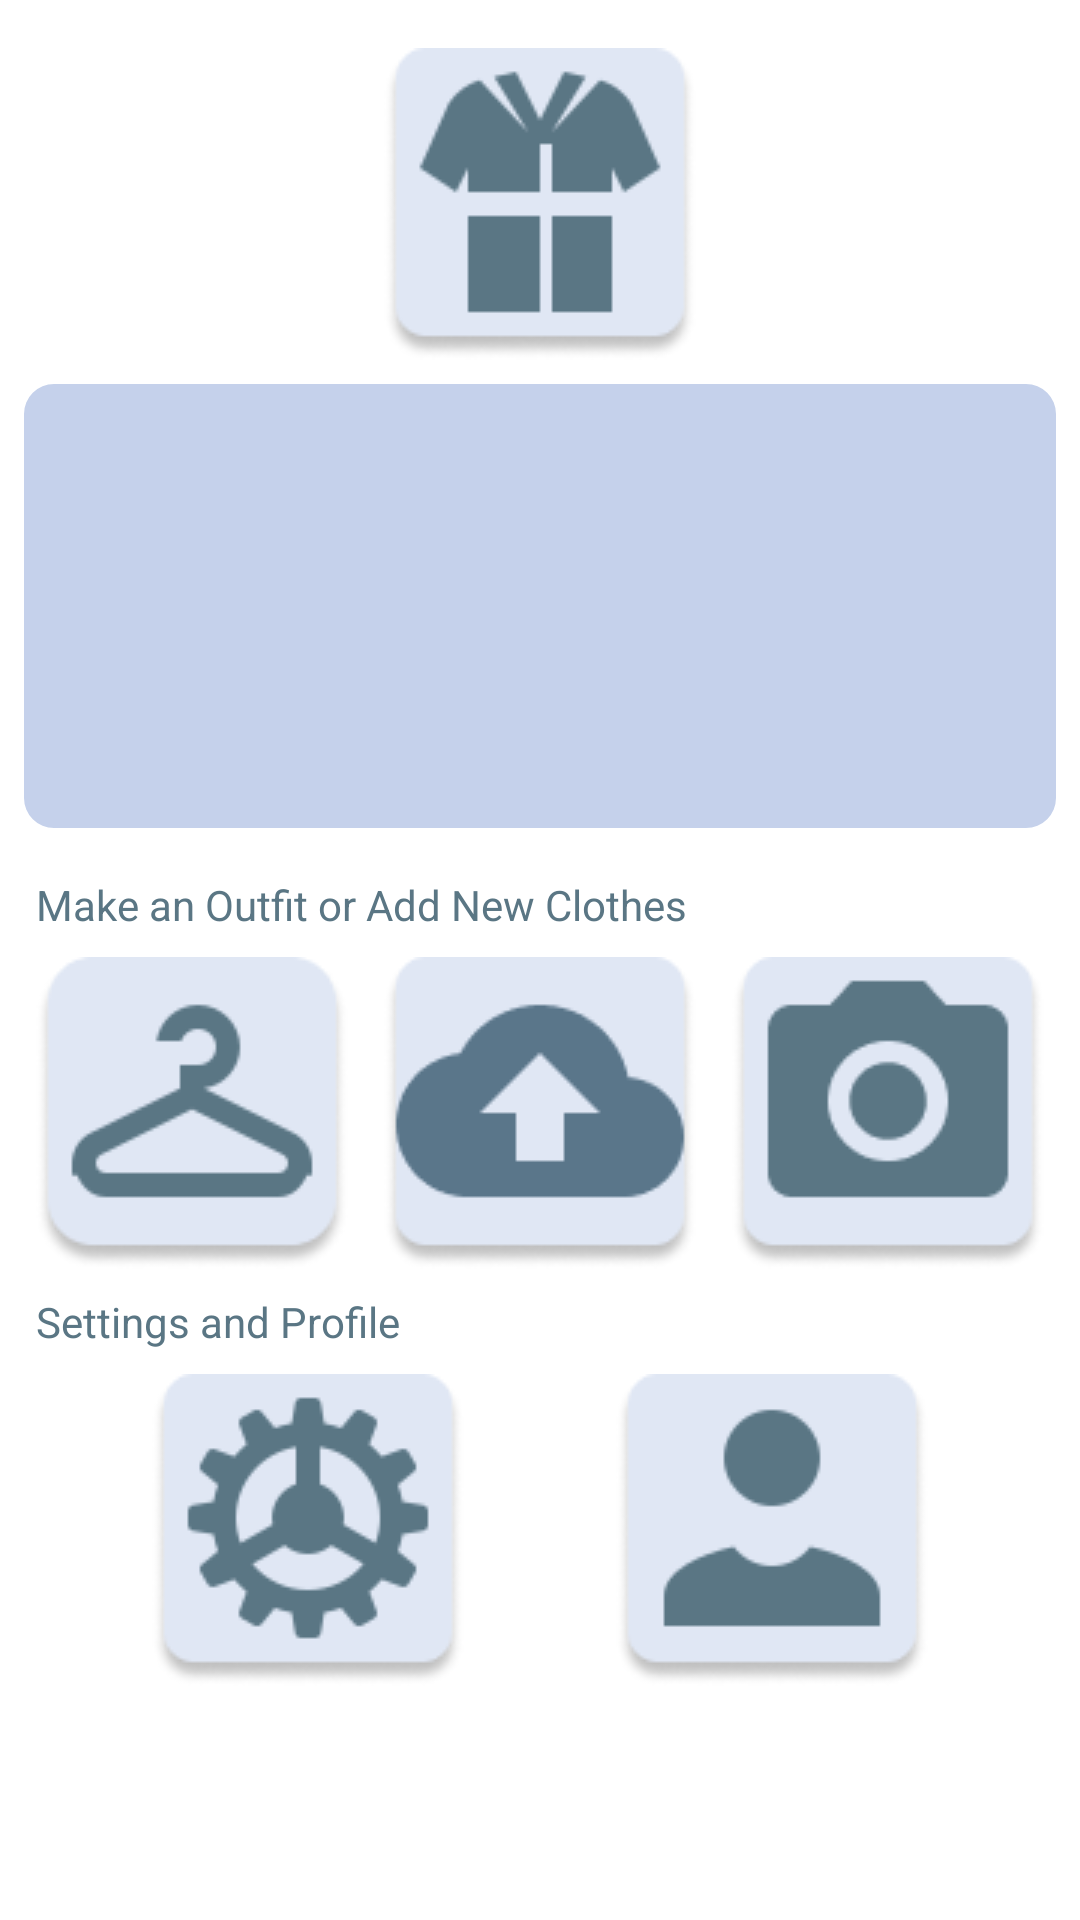

Where to tap for icons on this 1080×1920 app screen, as (x,y):
camera: (888,1108)
hanger: (192,1108)
kimono: (540,199)
profile: (772,1525)
upload: (540,1108)
